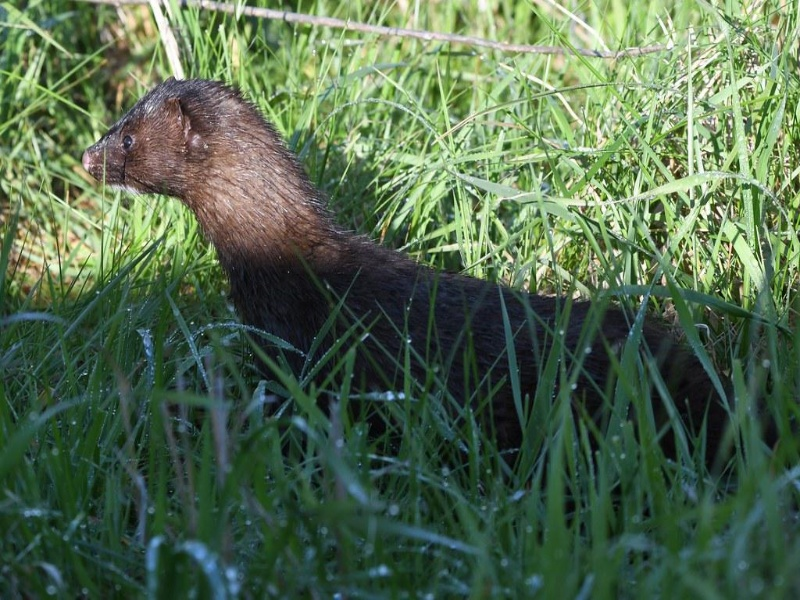minkish: (81, 75, 768, 492)
